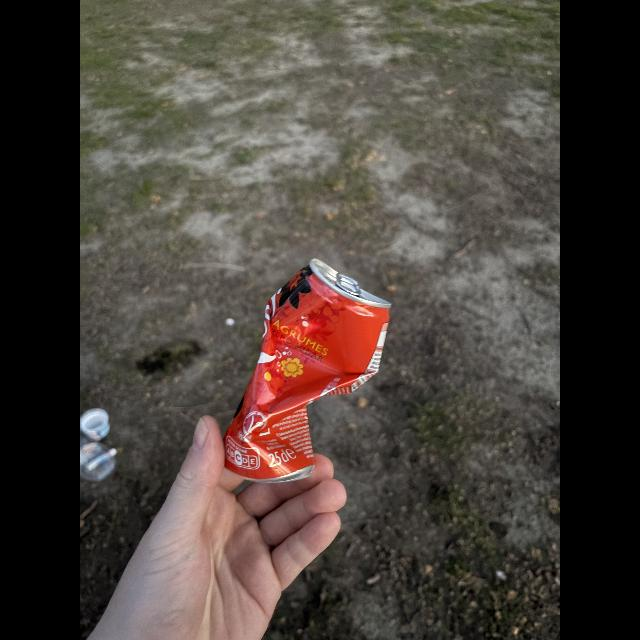Metal: (220, 255, 394, 490)
Plastic: (80, 403, 122, 479)
